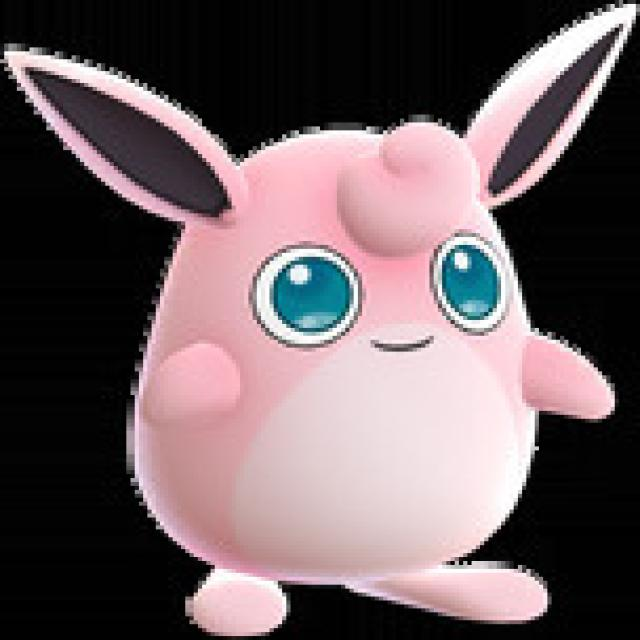Wigglytuff: (109, 101, 571, 640)
